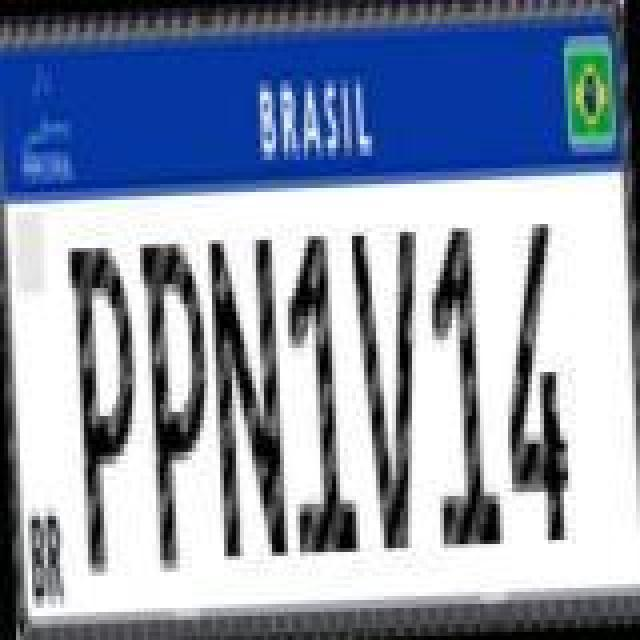1: (278, 224, 362, 560), (422, 216, 506, 552)
4: (496, 214, 576, 546)
N: (204, 230, 292, 562)
P: (62, 238, 146, 586), (134, 234, 218, 574)
V: (350, 220, 434, 556)
